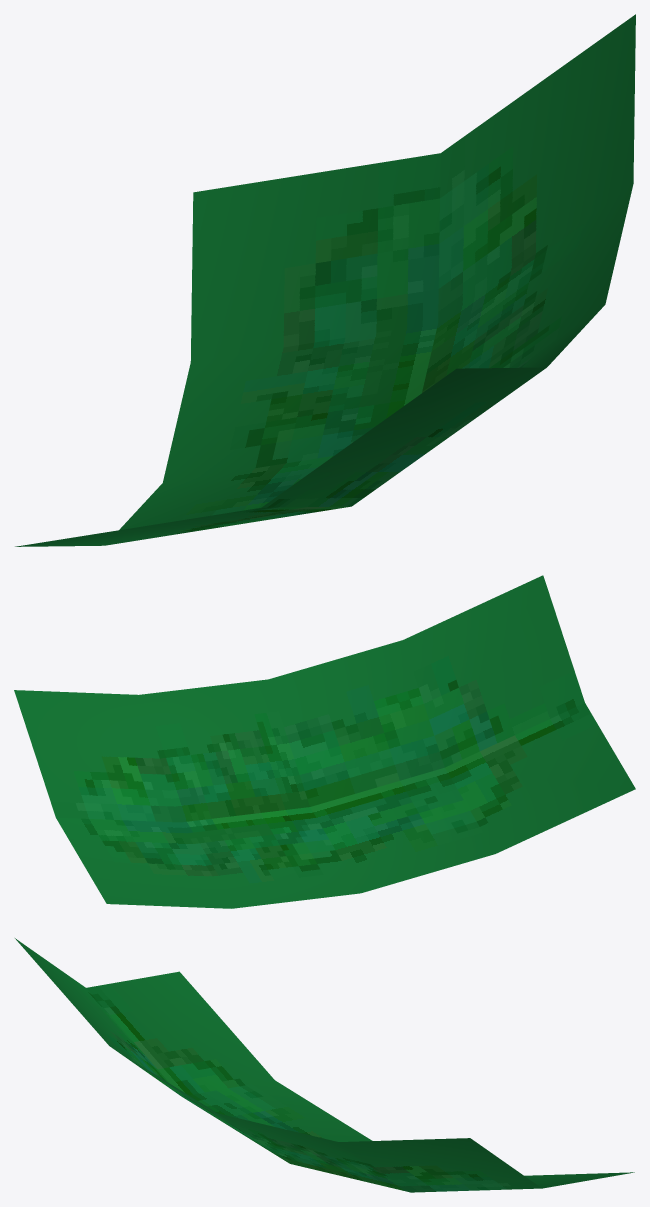
File: cap_feather_grn.dae
3 renders of one model, top to bottom at view 1: azimuth 30°, elevation 25°; view 2: azimuth 150°, elevation 25°; view 3: azimuth 270°, elevation 25°, orthographic. The views are drawn at different scales.
Visible parts, largest first — view 1: cap_feather_grn; view 2: cap_feather_grn; view 3: cap_feather_grn.
Boxes of the visible parts, x1,y1,x2,y2 form: cap_feather_grn: (15,14,635,546); cap_feather_grn: (14,575,635,908); cap_feather_grn: (15,938,634,1192).
Size of the model in its own units: 12.55 by 4.77 by 13.08.
1 material, 1 textured.
